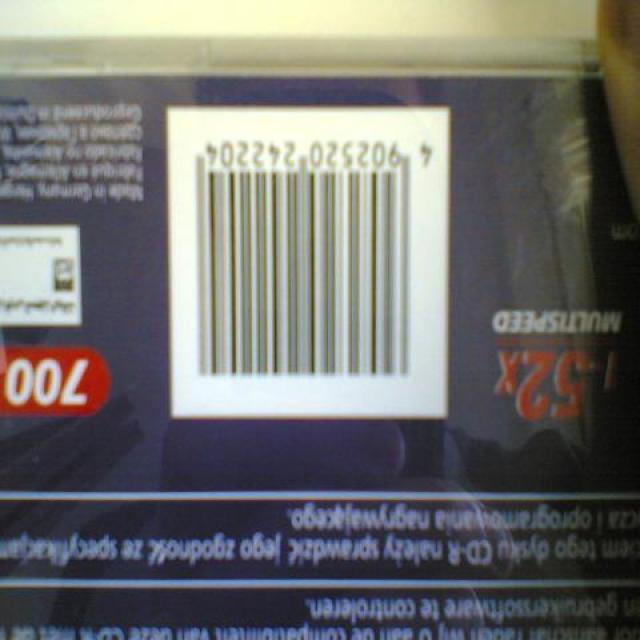Barcode: (165, 107, 446, 421)
